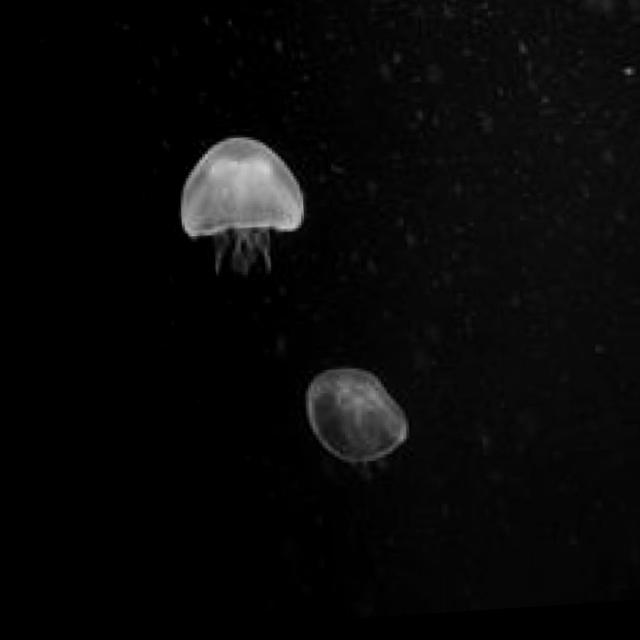Moon-jellyfish: (170, 131, 305, 287), (294, 362, 406, 484)
